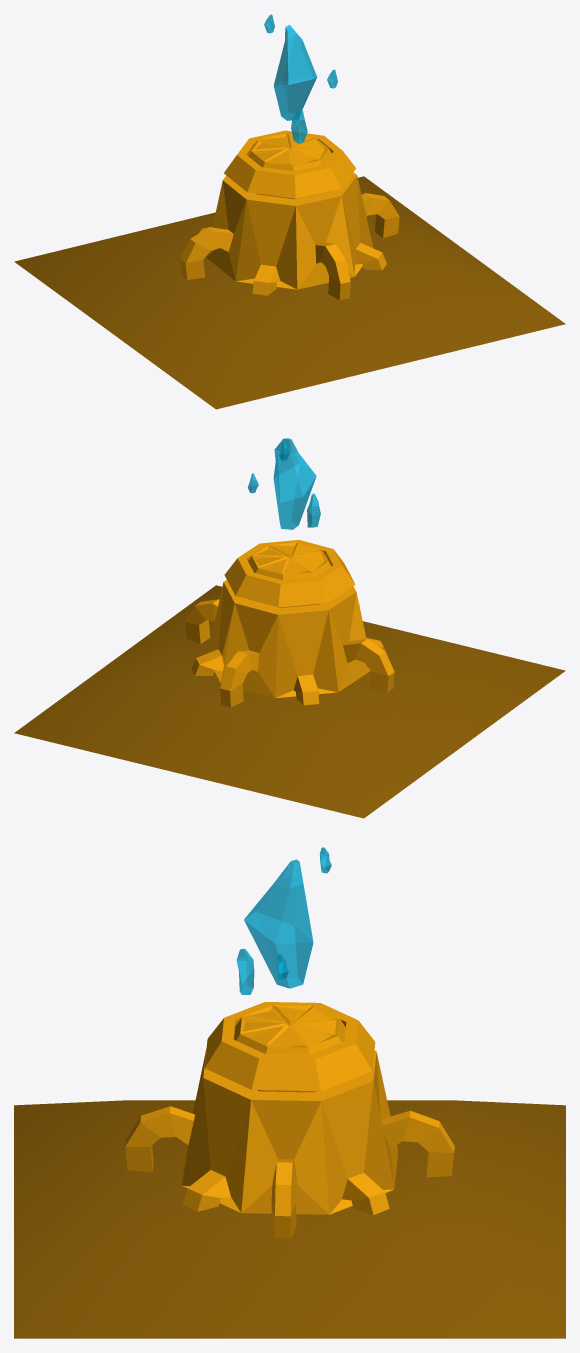
File: stm_prop_Dream_Well.fbx
3 renders of one model, top to bottom at view 1: azimuth 30°, elevation 25°; view 2: azimuth 150°, elevation 25°; view 3: azimuth 270°, elevation 25°, orthographic. The views are drawn at different scales.
Parts seen in each view (by area): view 1: Cube, Cylinder, Cylinder_1; view 2: Cube, Cylinder, Cylinder_1; view 3: Cube, Cylinder, Cylinder_1, Cylinder_3.
Part boxes in pixels (bbox=[...]): Cube: bbox=[14, 176, 565, 409]; Cylinder: bbox=[180, 130, 399, 300]; Cylinder_1: bbox=[273, 24, 317, 120]; Cube: bbox=[14, 585, 565, 818]; Cylinder: bbox=[185, 540, 394, 707]; Cylinder_1: bbox=[273, 438, 316, 529]; Cube: bbox=[14, 1100, 565, 1338]; Cylinder: bbox=[125, 1002, 454, 1238]; Cylinder_1: bbox=[244, 859, 313, 988]; Cylinder_3: bbox=[236, 948, 254, 994].
Size of the model in its own units: 240 by 177 by 240.
